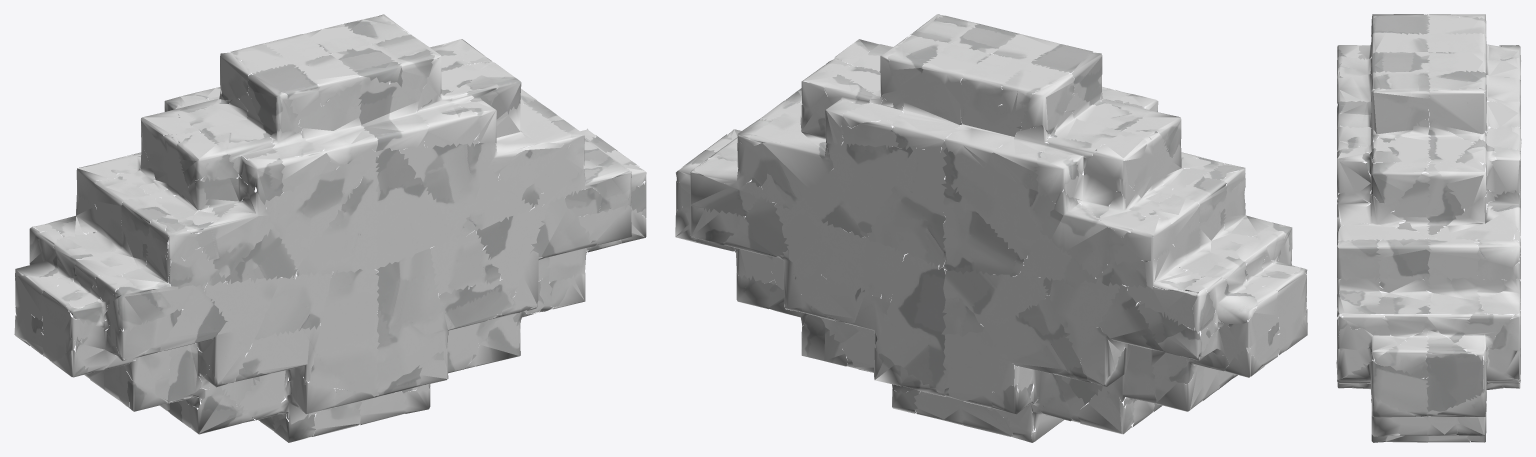
Rendered from nube5.glb.
3 renders of one model, left to right at view 1: azimuth 30°, elevation 25°; view 2: azimuth 150°, elevation 25°; view 3: azimuth 270°, elevation 25°, orthographic. The views are drawn at different scales.
Parts seen in each view (by area): view 1: Mesh_0; view 2: Mesh_0; view 3: Mesh_0.
Boxes of the visible parts, x1,y1,x2,y2 form: Mesh_0: [14, 14, 646, 442]; Mesh_0: [675, 14, 1307, 442]; Mesh_0: [1336, 14, 1521, 442].
Bounding box in the file's own units: 190 × 111 × 54.1.
Materials: 1 (1 with a texture image).
